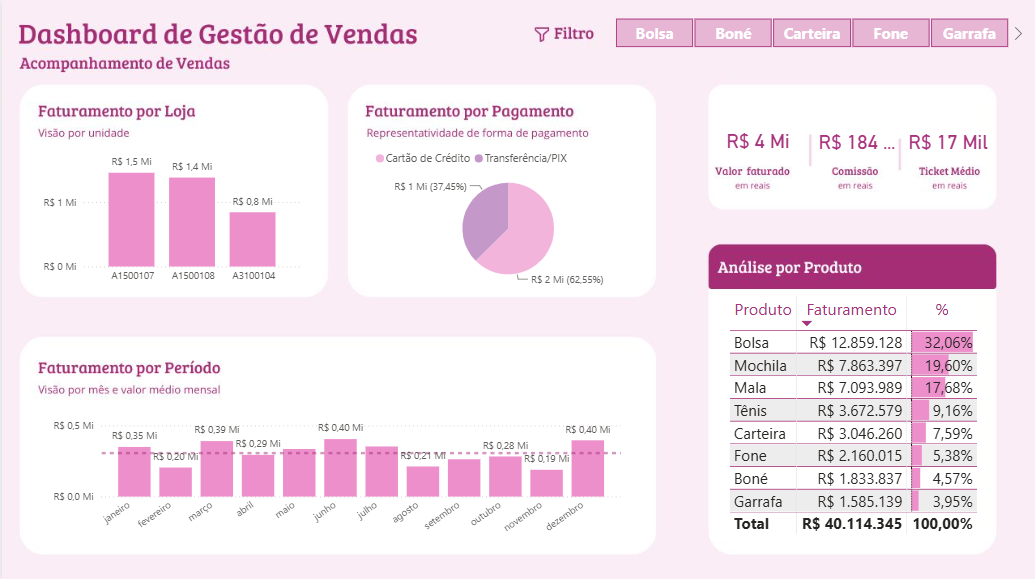

What the dashboard file says about the page in this screenshot:
{"tool":"powerbi","page":{"name":"Página 1","canvas":[1280,720],"ordinal":0},"visuals":[{"type":"card","fields":{"Values":["Sum(registroVendas.Valor Venda)"]},"box":[848.8,141.2,170,68.8],"z":0},{"type":"card","fields":{"Values":["Avg(registroVendas.Valor Venda)"]},"box":[1065,133.8,205,85],"z":1000},{"type":"clusteredColumnChart","title":"Faturamento por Período","fields":{"Category":["registroVendas.Data Pedido.Variation.Hierarquia de datas.Mês"],"Y":["Sum(registroVendas.Valor Venda)"]},"box":[57.5,495,711.2,181.2],"z":2000},{"type":"pieChart","title":"Faturamento por Pagamento","fields":{"Y":["Sum(registroVendas.Valor Venda)"],"Category":["registroVendas.Pagamento"]},"box":[455,176.2,338.8,185],"z":3000},{"type":"clusteredColumnChart","title":"Faturamento por Loja","fields":{"Y":["Sum(registroVendas.Valor Venda)"],"Category":["registroVendas.Código Loja"]},"box":[46.2,176.2,330,183.8],"z":4000},{"type":"tableEx","fields":{"Values":["registroVendas.Produto","Sum(registroVendas.Valor Venda)","Divide(Sum(registroVendas.Valor Venda), ScopedEval(Sum(registroVendas.Valor Venda), []))"]},"box":[892.5,361.2,325,313],"z":5000},{"type":"slicer","fields":{"Values":["registroVendas.Produto"]},"box":[731.6,17.6,533.9,47.6],"z":6000},{"type":"card","fields":{"Values":["registroVendas.comissao"]},"box":[998.8,147.5,112.5,57.5],"z":7000}]}

Visuals, with their boxes in screenshot pixels (x1, y1, x2, y2), scaled from the page's 1280x720 canvas onto the 1035x579 screenshot:
card - Sum(registroVendas.Valor Venda): (686,114,824,169)
card - Avg(registroVendas.Valor Venda): (861,108,1027,176)
"Faturamento por Período" clusteredColumnChart: (46,398,622,544)
"Faturamento por Pagamento" pieChart: (368,142,642,290)
"Faturamento por Loja" clusteredColumnChart: (37,142,304,290)
tableEx - registroVendas.Produto x Sum(registroVendas.Valor Venda): (722,290,984,542)
slicer - registroVendas.Produto: (592,14,1023,52)
card - registroVendas.comissao: (808,119,899,165)
